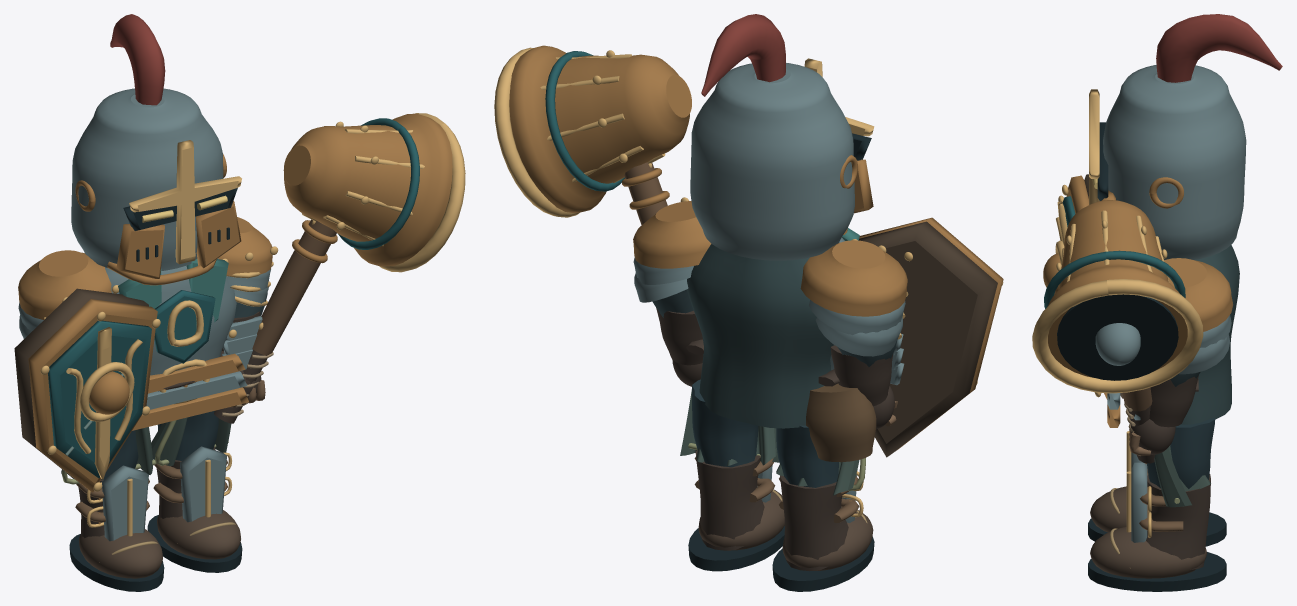
The model's file is Enemy1.obj.
3 views of the same model, side by side, from view 1: azimuth 30°, elevation 25°; view 2: azimuth 150°, elevation 25°; view 3: azimuth 270°, elevation 25° (orthographic). The views are drawn at different scales.
Parts seen in each view (by area): view 1: Enemy1(Clone)__Rig__Body__Head__Sculpt_render, Enemy1(Clone)__Rig__Body__ArmR__Forearm__Sculpt_render, Enemy1(Clone)__Rig__Body__ArmL__Sculpt_render, Enemy1(Clone)__Rig__Body__Sculpt_render, Enemy1(Clone)__Rig__LegR__Shin__Sculpt_render, Enemy1(Clone)__Rig__LegL__Shin__Sculpt_render, Enemy1(Clone)__Rig__Body__ArmR__Sculpt_render, Enemy1(Clone)__Rig__LegR__Sculpt_render, Enemy1(Clone)__Rig__LegL__Sculpt_render; view 2: Enemy1(Clone)__Rig__Body__Head__Sculpt_render, Enemy1(Clone)__Rig__Body__ArmR__Forearm__Sculpt_render, Enemy1(Clone)__Rig__Body__ArmL__Sculpt_render, Enemy1(Clone)__Rig__Body__Sculpt_render, Enemy1(Clone)__Rig__LegL__Shin__Sculpt_render, Enemy1(Clone)__Rig__LegR__Shin__Sculpt_render, Enemy1(Clone)__Rig__Body__ArmR__Sculpt_render, Enemy1(Clone)__Rig__LegR__Sculpt_render, Enemy1(Clone)__Rig__Body__ArmL__Forearm__Sculpt_render, Enemy1(Clone)__Rig__LegL__Sculpt_render; view 3: Enemy1(Clone)__Rig__Body__Head__Sculpt_render, Enemy1(Clone)__Rig__Body__ArmR__Forearm__Sculpt_render, Enemy1(Clone)__Rig__LegR__Shin__Sculpt_render, Enemy1(Clone)__Rig__Body__Sculpt_render, Enemy1(Clone)__Rig__Body__ArmR__Sculpt_render, Enemy1(Clone)__Rig__LegR__Sculpt_render, Enemy1(Clone)__Rig__LegL__Shin__Sculpt_render, Enemy1(Clone)__Rig__Body__ArmL__Sculpt_render.
Boxes of the visible parts, bbox=[...] form: Enemy1(Clone)__Rig__Body__Head__Sculpt_render: bbox=[71, 14, 241, 285]; Enemy1(Clone)__Rig__Body__ArmR__Forearm__Sculpt_render: bbox=[214, 113, 465, 423]; Enemy1(Clone)__Rig__Body__ArmL__Sculpt_render: bbox=[14, 250, 160, 492]; Enemy1(Clone)__Rig__Body__Sculpt_render: bbox=[61, 258, 248, 484]; Enemy1(Clone)__Rig__LegR__Shin__Sculpt_render: bbox=[147, 446, 242, 572]; Enemy1(Clone)__Rig__LegL__Shin__Sculpt_render: bbox=[69, 465, 164, 591]; Enemy1(Clone)__Rig__Body__ArmR__Sculpt_render: bbox=[218, 217, 278, 317]; Enemy1(Clone)__Rig__LegR__Sculpt_render: bbox=[157, 411, 218, 460]; Enemy1(Clone)__Rig__LegL__Sculpt_render: bbox=[101, 430, 138, 479]; Enemy1(Clone)__Rig__Body__Head__Sculpt_render: bbox=[690, 14, 874, 260]; Enemy1(Clone)__Rig__Body__ArmR__Forearm__Sculpt_render: bbox=[494, 45, 703, 386]; Enemy1(Clone)__Rig__Body__ArmL__Sculpt_render: bbox=[800, 217, 1003, 457]; Enemy1(Clone)__Rig__Body__Sculpt_render: bbox=[680, 228, 876, 495]; Enemy1(Clone)__Rig__LegL__Shin__Sculpt_render: bbox=[772, 469, 874, 591]; Enemy1(Clone)__Rig__LegR__Shin__Sculpt_render: bbox=[688, 450, 784, 571]; Enemy1(Clone)__Rig__Body__ArmR__Sculpt_render: bbox=[633, 197, 711, 317]; Enemy1(Clone)__Rig__LegR__Sculpt_render: bbox=[692, 379, 758, 467]; Enemy1(Clone)__Rig__Body__ArmL__Forearm__Sculpt_render: bbox=[830, 333, 904, 429]; Enemy1(Clone)__Rig__LegL__Sculpt_render: bbox=[776, 425, 838, 487]; Enemy1(Clone)__Rig__Body__Head__Sculpt_render: bbox=[1089, 14, 1282, 259]; Enemy1(Clone)__Rig__Body__ArmR__Forearm__Sculpt_render: bbox=[1032, 200, 1203, 463]; Enemy1(Clone)__Rig__LegR__Shin__Sculpt_render: bbox=[1088, 462, 1226, 591]; Enemy1(Clone)__Rig__Body__Sculpt_render: bbox=[1107, 245, 1239, 507]; Enemy1(Clone)__Rig__Body__ArmR__Sculpt_render: bbox=[1164, 258, 1233, 386]; Enemy1(Clone)__Rig__LegR__Sculpt_render: bbox=[1147, 417, 1215, 488]; Enemy1(Clone)__Rig__LegL__Shin__Sculpt_render: bbox=[1088, 431, 1226, 546]; Enemy1(Clone)__Rig__Body__ArmL__Sculpt_render: bbox=[1043, 174, 1123, 399].
Bounding box in the file's own units: 2.16 × 2.45 × 1.02.
